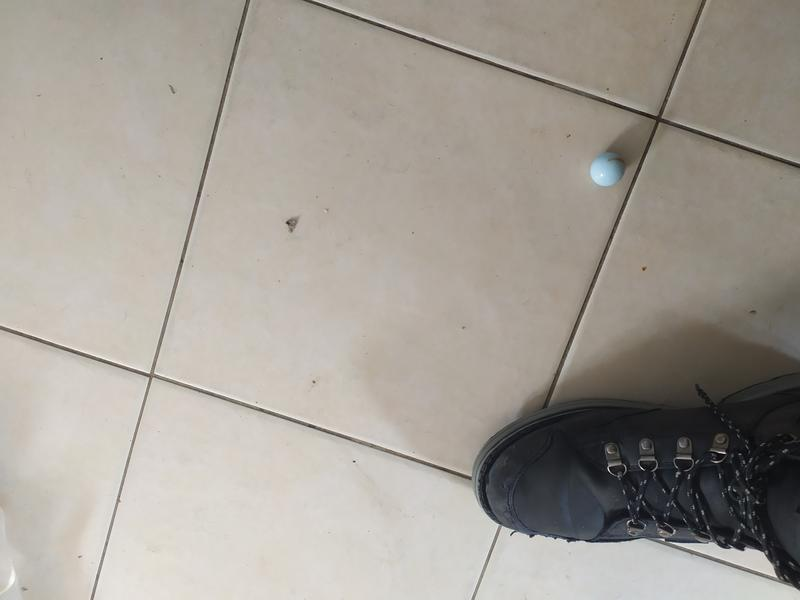Warning: (588, 149, 628, 190)
